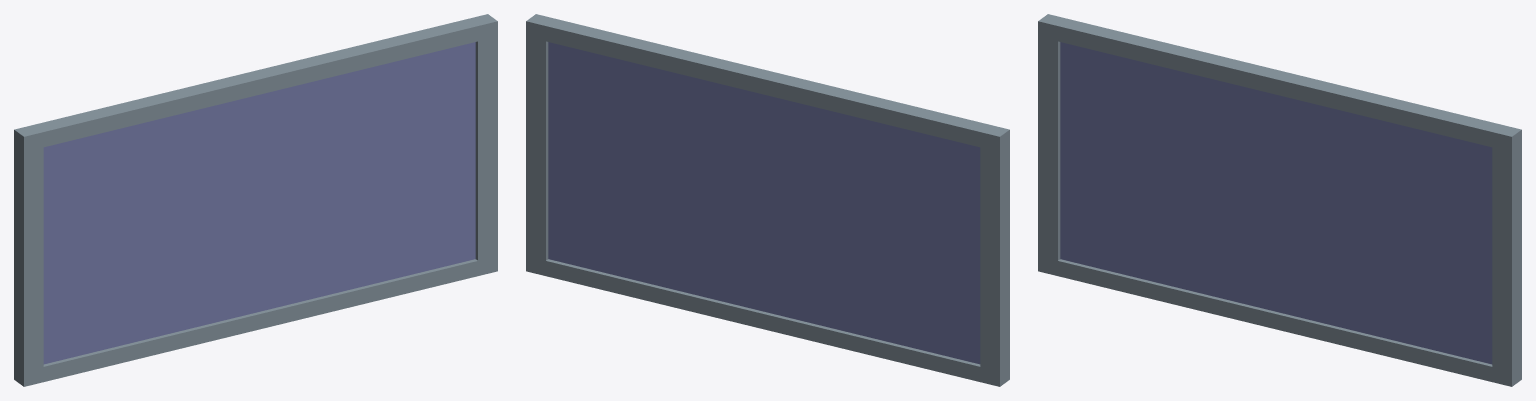
Rendered from panel.fbx.
The picture shows the model from 3 angles, left to right: view 1: azimuth 30°, elevation 25°; view 2: azimuth 150°, elevation 25°; view 3: azimuth 330°, elevation 25°; orthographic projection.
Parts seen in each view (by area): view 1: Cube.014; view 2: Cube.014; view 3: Cube.014.
Boxes of the visible parts, <box> form: Cube.014: <box>14,14,497,386</box>; Cube.014: <box>526,14,1009,386</box>; Cube.014: <box>1038,14,1521,386</box>.
Size of the model in its own units: 736 by 371 by 26.7.
